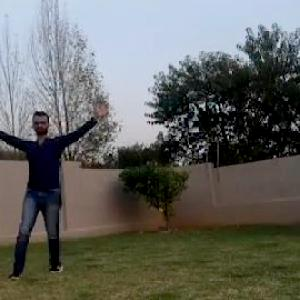takeoff: (1, 103, 121, 271)
